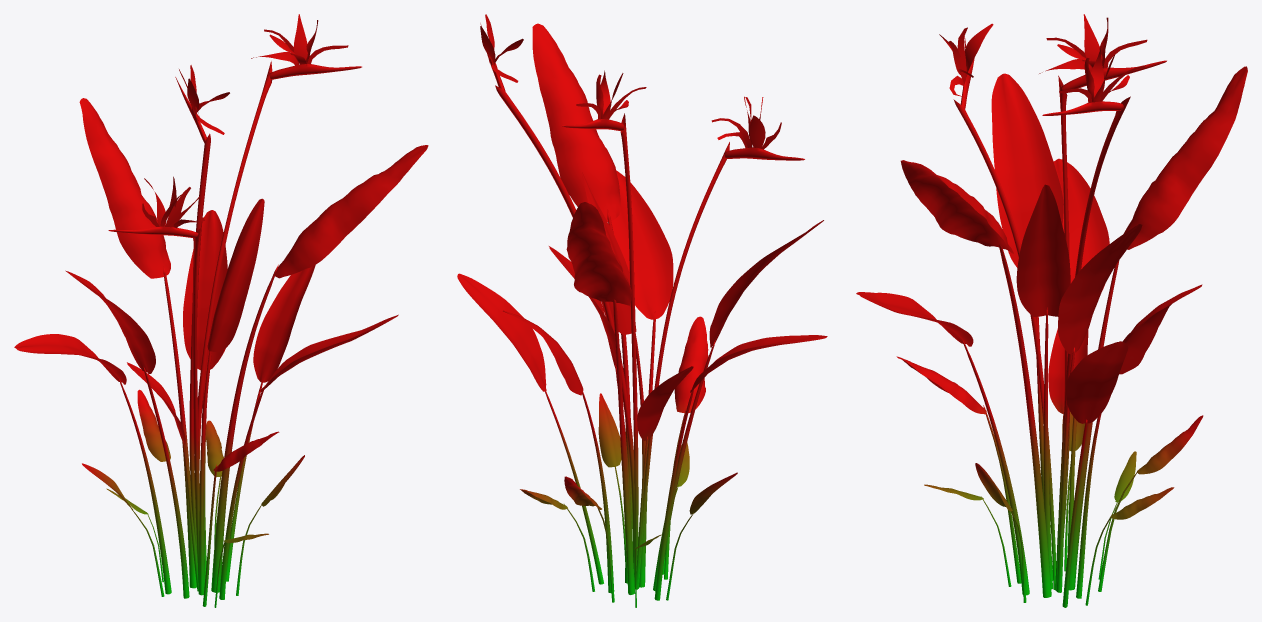
The model's file is Var5_LOD0.fbx.
3 views of the same model, side by side, from view 1: azimuth 30°, elevation 25°; view 2: azimuth 150°, elevation 25°; view 3: azimuth 270°, elevation 25° (orthographic). The views are drawn at different scales.
Visible parts, largest first — view 1: _85ss_Var5_LOD0; view 2: _85ss_Var5_LOD0; view 3: _85ss_Var5_LOD0.
Part boxes in pixels (x1,y1,x2,y2): _85ss_Var5_LOD0: [14, 14, 428, 607]; _85ss_Var5_LOD0: [457, 14, 827, 607]; _85ss_Var5_LOD0: [856, 14, 1247, 607].
Size of the model in its own units: 122 by 178 by 104.
